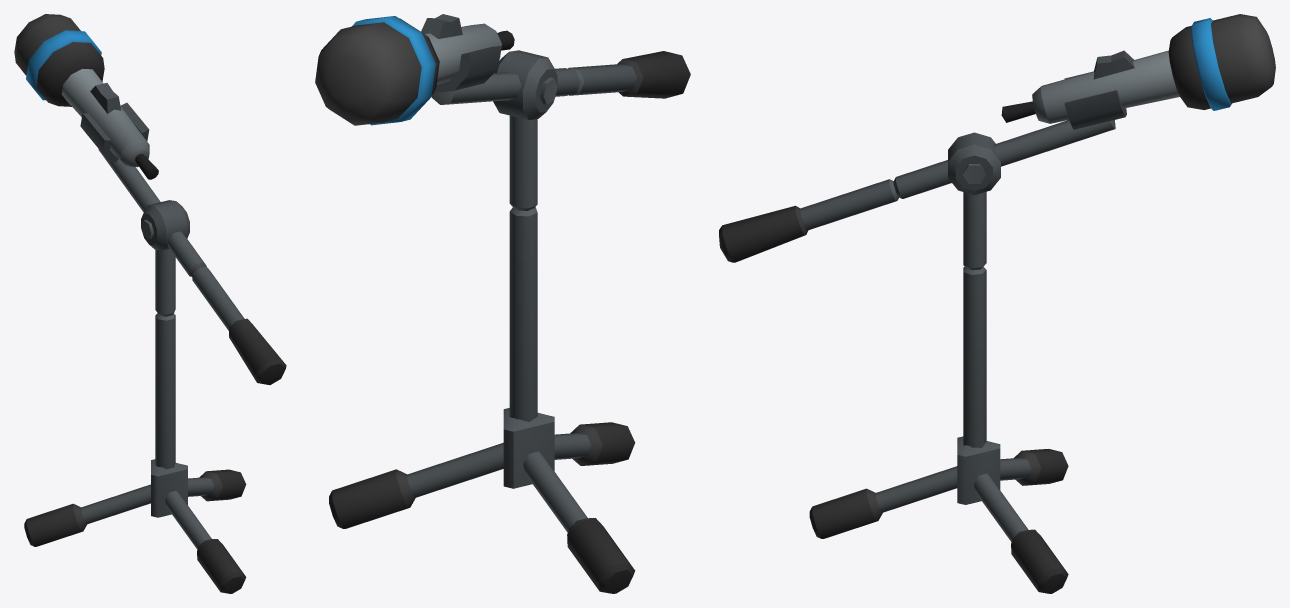
Rendered from GothGirl_MicStand.obj.
3 renders of one model, left to right at view 1: azimuth 30°, elevation 25°; view 2: azimuth 150°, elevation 25°; view 3: azimuth 270°, elevation 25°, orthographic. The views are drawn at different scales.
Visible parts, largest first — view 1: GothGirl_MicStand; view 2: GothGirl_MicStand; view 3: GothGirl_MicStand.
Boxes of the visible parts, left/top/right/bottom form: GothGirl_MicStand: left=14, top=14, right=286, bottom=593; GothGirl_MicStand: left=315, top=14, right=690, bottom=593; GothGirl_MicStand: left=719, top=14, right=1275, bottom=593.
Size of the model in its own units: 0.753 by 1.48 by 1.43.
1 material, 1 textured.
